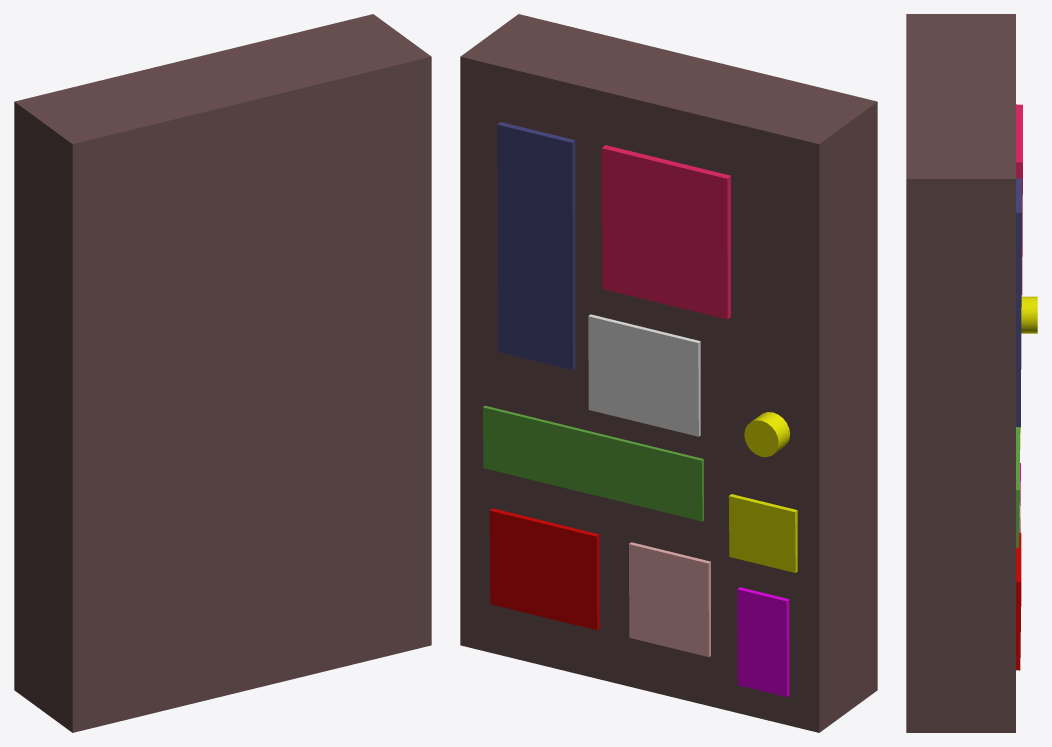
Rendered from doory.fbx.
The picture shows the model from 3 angles, left to right: view 1: azimuth 30°, elevation 25°; view 2: azimuth 150°, elevation 25°; view 3: azimuth 270°, elevation 25°; orthographic projection. The views are drawn at different scales.
Parts seen in each view (by area): view 1: pCube1; view 2: pCube1, pasted__pCube2 (×3), pasted__pasted__pCube2 (×3), pCube2, pasted__pasted__pasted__pCube2, pCylinder1; view 3: pCube1, pasted__pasted__pCube2, pasted__pasted__pasted__pCube2, pasted__pCube2, pCylinder1, pCube2.
Part boxes in pixels (left/top/right/bottom): pCube1: left=14, top=14, right=431, bottom=732; pCube1: left=460, top=14, right=877, bottom=732; pasted__pCube2 (×3): left=588, top=145, right=797, bottom=572; pasted__pasted__pCube2 (×3): left=497, top=122, right=789, bottom=696; pCube2: left=483, top=405, right=703, bottom=521; pasted__pasted__pasted__pCube2: left=489, top=508, right=599, bottom=630; pCylinder1: left=744, top=412, right=790, bottom=457; pCube1: left=906, top=14, right=1015, bottom=732; pasted__pasted__pCube2: left=1016, top=178, right=1021, bottom=427; pasted__pasted__pasted__pCube2: left=1016, top=532, right=1021, bottom=670; pasted__pCube2: left=1016, top=104, right=1022, bottom=294; pCylinder1: left=1021, top=296, right=1037, bottom=333; pCube2: left=1016, top=427, right=1019, bottom=547.
Bounding box in the file's own units: 7.02 × 11 × 2.36.
